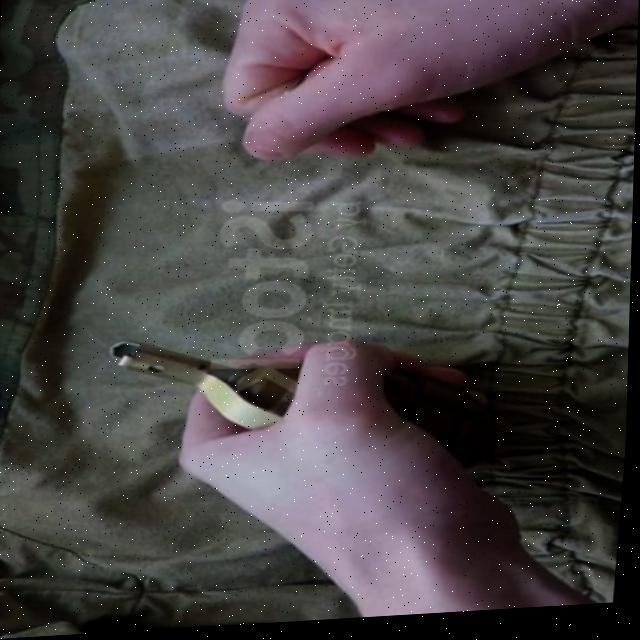grenade: (97, 326, 509, 495)
